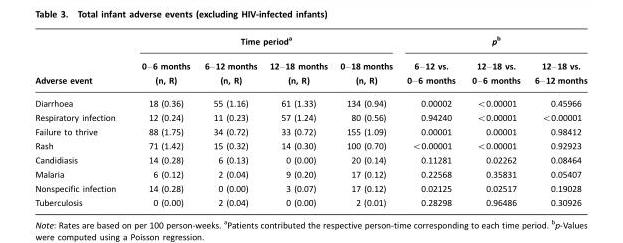table: (34, 34, 586, 206)
table column: (34, 34, 128, 206), (262, 34, 333, 206), (128, 34, 196, 206), (196, 34, 262, 206), (333, 34, 399, 206), (399, 34, 463, 206), (463, 34, 526, 206), (526, 34, 586, 206)
table column header: (34, 34, 586, 91)
table row: (34, 52, 586, 91), (34, 91, 586, 110), (34, 34, 586, 52), (34, 110, 586, 125), (34, 138, 586, 153), (34, 166, 586, 181), (34, 181, 586, 195), (34, 125, 586, 138), (34, 153, 586, 166), (34, 195, 586, 206)
table spanning cell: (34, 34, 128, 91), (128, 34, 399, 52), (399, 34, 586, 52)
